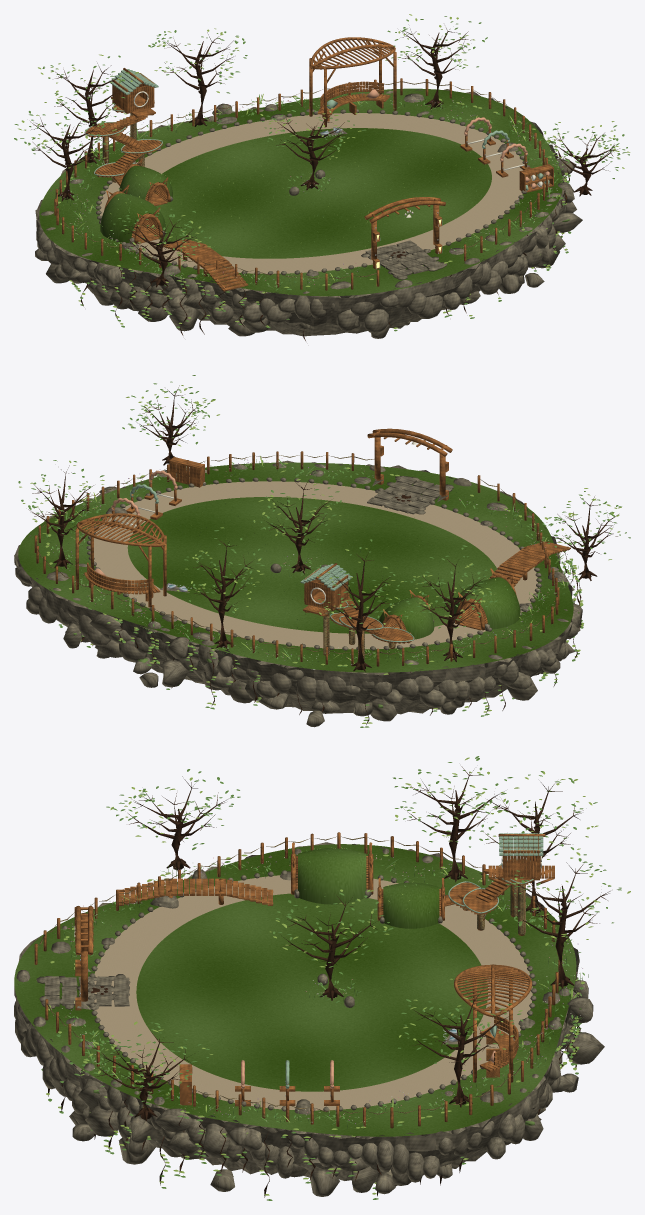
Rendered from preview.glb.
3 renders of one model, top to bottom at view 1: azimuth 30°, elevation 25°; view 2: azimuth 150°, elevation 25°; view 3: azimuth 270°, elevation 25°, orthographic. The views are drawn at different scales.
Visible parts, largest first — view 1: Paw preview Living turf, Paw preview Layered limestone, Paw preview Honey oak, Paw preview Warm gravel, Paw preview Weathered bark, Paw preview Leaf green, Paw preview Leaf sun tips, Paw preview Woven natural fibre, Paw preview Sage painted edges, Paw preview Apricot painted edges; view 2: Paw preview Living turf, Paw preview Layered limestone, Paw preview Honey oak, Paw preview Warm gravel, Paw preview Weathered bark, Paw preview Leaf green, Paw preview Leaf sun tips, Paw preview Woven natural fibre, Paw preview Sage painted edges; view 3: Paw preview Living turf, Paw preview Layered limestone, Paw preview Honey oak, Paw preview Warm gravel, Paw preview Weathered bark, Paw preview Leaf green, Paw preview Leaf sun tips, Paw preview Woven natural fibre, Paw preview Sage painted edges.
Boxes of the visible parts, left/top/right/bottom form: Paw preview Living turf: left=39, top=88, right=562, bottom=296; Paw preview Layered limestone: left=35, top=89, right=582, bottom=338; Paw preview Honey oak: left=54, top=37, right=553, bottom=291; Paw preview Warm gravel: left=99, top=113, right=523, bottom=273; Paw preview Weathered bark: left=30, top=28, right=619, bottom=340; Paw preview Leaf green: left=14, top=16, right=629, bottom=331; Paw preview Leaf sun tips: left=18, top=14, right=630, bottom=328; Paw preview Woven natural fibre: left=55, top=81, right=547, bottom=278; Paw preview Sage painted edges: left=84, top=69, right=549, bottom=190; Paw preview Apricot painted edges: left=366, top=89, right=550, bottom=188; Paw preview Living turf: left=18, top=462, right=573, bottom=672; Paw preview Layered limestone: left=14, top=460, right=582, bottom=727; Paw preview Honey oak: left=34, top=428, right=570, bottom=666; Paw preview Warm gravel: left=94, top=481, right=537, bottom=649; Paw preview Weathered bark: left=28, top=385, right=618, bottom=724; Paw preview Leaf green: left=18, top=375, right=630, bottom=727; Paw preview Leaf sun tips: left=19, top=385, right=621, bottom=723; Paw preview Woven natural fibre: left=36, top=455, right=557, bottom=659; Paw preview Sage painted edges: left=129, top=466, right=414, bottom=642; Paw preview Living turf: left=14, top=844, right=576, bottom=1136; Paw preview Layered limestone: left=14, top=842, right=604, bottom=1196; Paw preview Honey oak: left=34, top=832, right=562, bottom=1128; Paw preview Warm gravel: left=94, top=875, right=532, bottom=1110; Paw preview Weathered bark: left=48, top=766, right=610, bottom=1197; Paw preview Leaf green: left=41, top=756, right=621, bottom=1200; Paw preview Leaf sun tips: left=46, top=757, right=630, bottom=1195; Paw preview Woven natural fibre: left=38, top=836, right=559, bottom=1114; Paw preview Sage painted edges: left=179, top=833, right=543, bottom=1098.
Size of the model in its own units: 28.6 by 11.29 by 24.91.
Materials: 19 (6 with a texture image).
